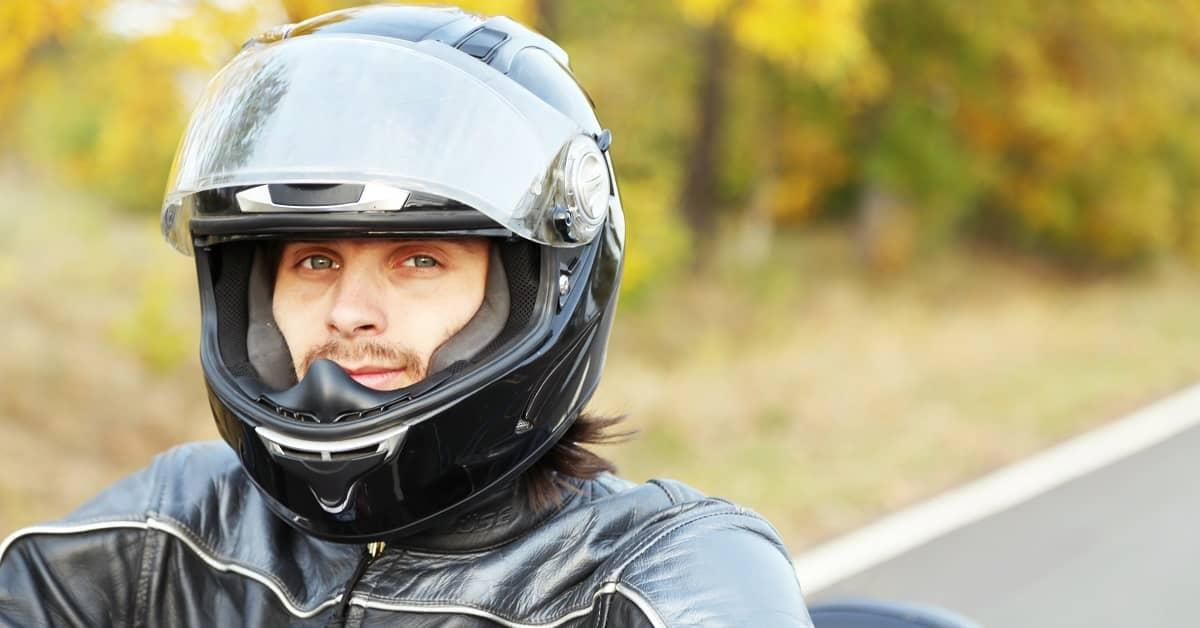Helmet: (164, 5, 623, 540)
